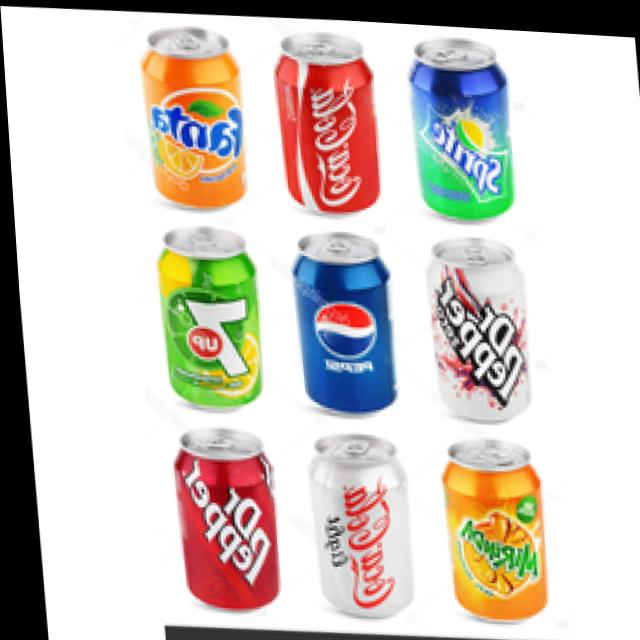aluminum_soda_cans: (155, 418, 283, 617), (131, 24, 253, 217), (148, 217, 262, 420), (265, 29, 386, 220), (292, 417, 404, 617), (399, 28, 515, 215), (431, 435, 547, 619), (284, 221, 396, 411), (419, 233, 526, 426)
